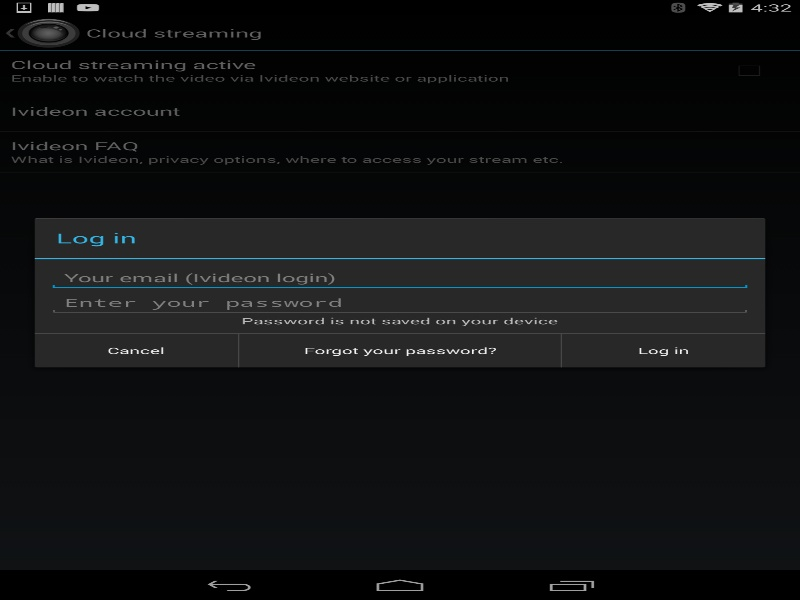Button: (239, 333, 560, 367), (34, 333, 238, 367), (562, 333, 765, 367)
Input: (48, 265, 752, 290), (48, 290, 752, 315)
